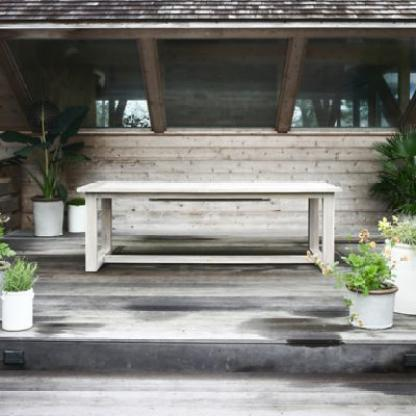table: (71, 174, 345, 280)
